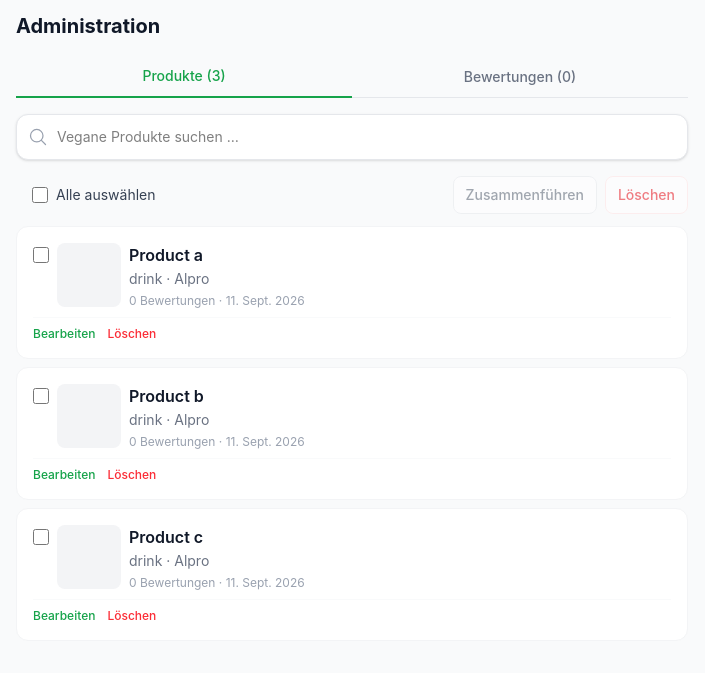
AdminView › when deleting the selected products after confirming › deletes every selected product and removes them from the list
Expected: the checkbox labelled "Alle auswählen" is shown, [32,187,48,203]
What coordinates should you click on to do the following:
click the checkbox named "Product a auswählen"
I would click on:
 (41, 255)
Its box is [33,247,49,263].
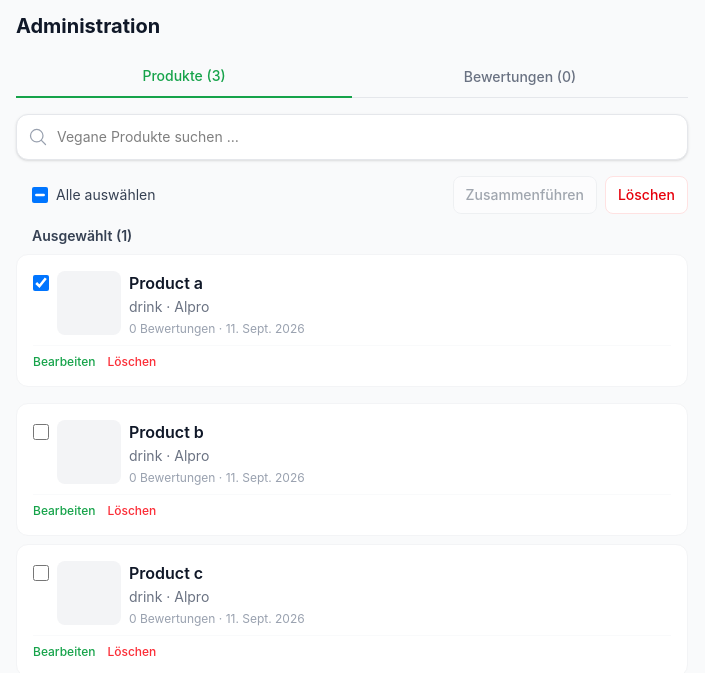
What coordinates should you click on to do the following:
click the checkbox named "Product c auswählen"
I would click on:
 (41, 573)
Its box is [33,565,49,581].
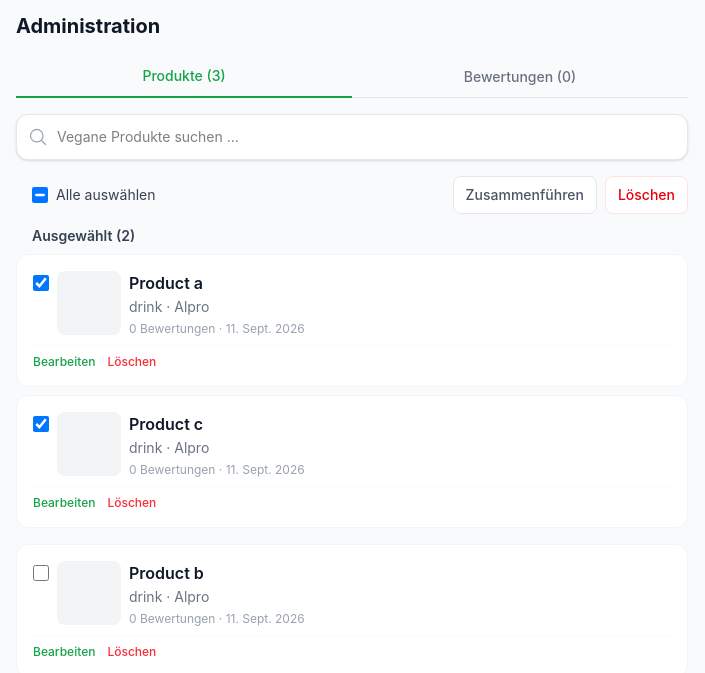
What coordinates should you click on to do the following:
click the button with aria-label "Ausgewählte Produkte löschen"
I would click on:
 (646, 195)
Its box is [605,176,688,214].
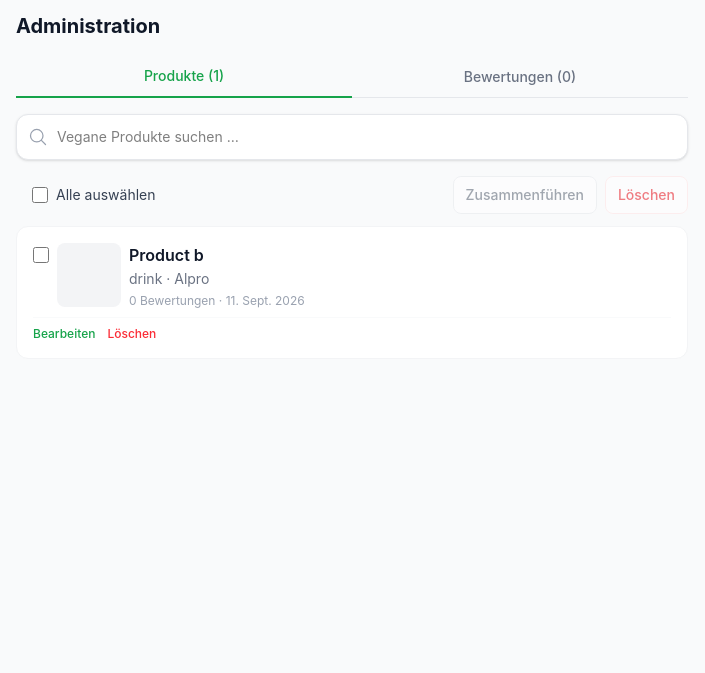
Expected: the text "Produkte (1)" is shown, [16,56,352,98]
